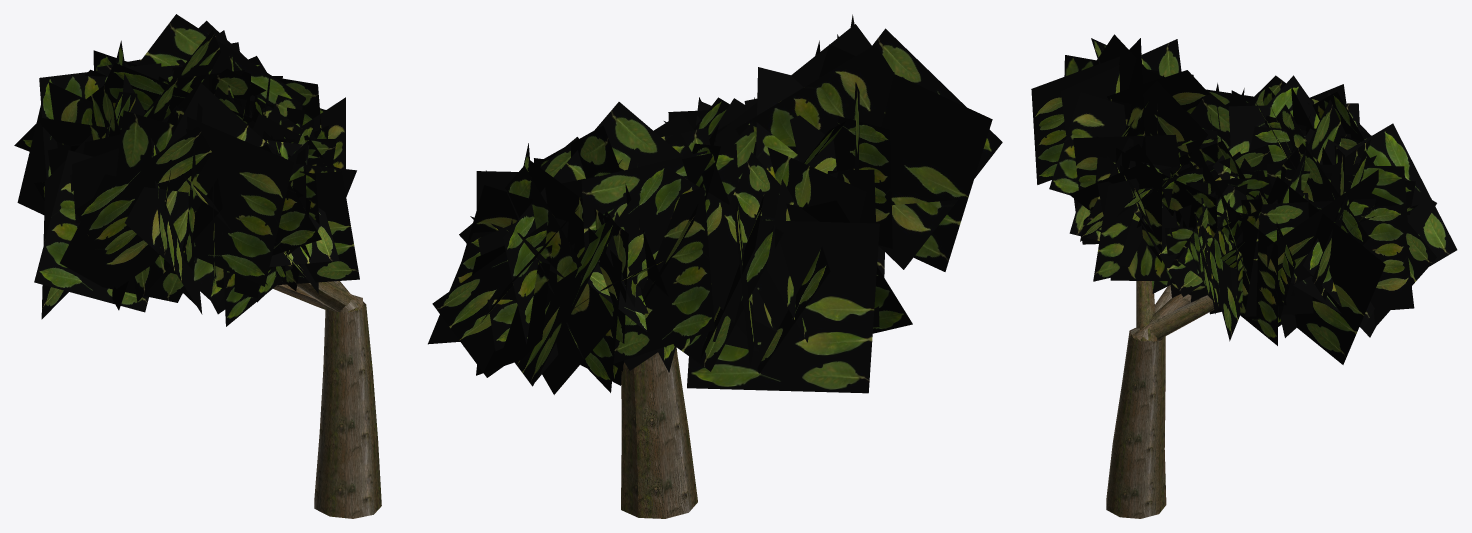
File: fig_1.glb
The picture shows the model from 3 angles, left to right: view 1: azimuth 30°, elevation 25°; view 2: azimuth 150°, elevation 25°; view 3: azimuth 270°, elevation 25°; orthographic projection. The views are drawn at different scales.
Visible parts, largest first — view 1: fig; view 2: fig; view 3: fig.
Boxes of the visible parts, <box> form: fig: <box>14,14,381,518</box>; fig: <box>428,14,1002,518</box>; fig: <box>1031,34,1457,518</box>.
Size of the model in its own units: 6.07 by 7.23 by 6.87.
2 materials, 2 textured.
